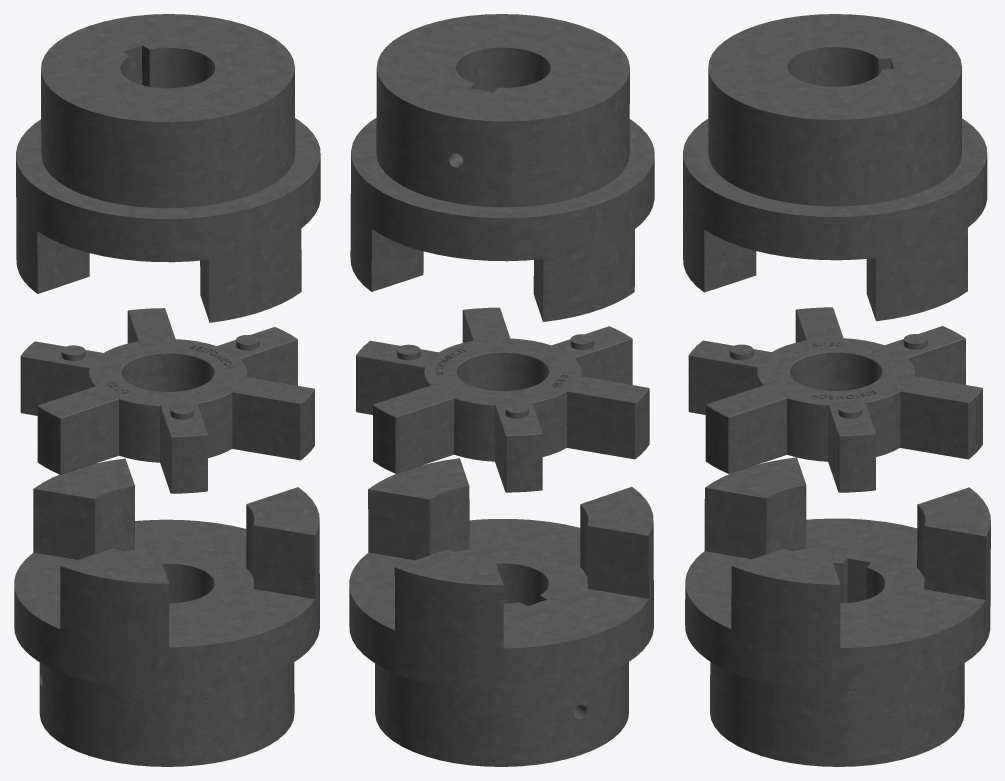
Rendered from Essex Coupling.glb.
3 views of the same model, side by side, from view 1: azimuth 30°, elevation 25°; view 2: azimuth 150°, elevation 25°; view 3: azimuth 270°, elevation 25° (orthographic).
Visible parts, largest first — view 1: L-TYPE- D30 H7-N.003, L-TYPE- D30 H7-N.002, ELASTOMER, SPIDER - JAW COUPLING BM 150-N.002; view 2: L-TYPE- D30 H7-N.003, L-TYPE- D30 H7-N.002, ELASTOMER, SPIDER - JAW COUPLING BM 150-N.002; view 3: L-TYPE- D30 H7-N.003, L-TYPE- D30 H7-N.002, ELASTOMER, SPIDER - JAW COUPLING BM 150-N.002.
Boxes of the visible parts, left/top/right/bottom form: L-TYPE- D30 H7-N.003: left=14, top=458, right=319, bottom=766; L-TYPE- D30 H7-N.002: left=16, top=14, right=320, bottom=322; ELASTOMER, SPIDER - JAW COUPLING BM 150-N.002: left=20, top=308, right=314, bottom=493; L-TYPE- D30 H7-N.003: left=349, top=458, right=653, bottom=766; L-TYPE- D30 H7-N.002: left=350, top=14, right=654, bottom=321; ELASTOMER, SPIDER - JAW COUPLING BM 150-N.002: left=356, top=307, right=649, bottom=492; L-TYPE- D30 H7-N.003: left=685, top=457, right=990, bottom=766; L-TYPE- D30 H7-N.002: left=683, top=14, right=987, bottom=321; ELASTOMER, SPIDER - JAW COUPLING BM 150-N.002: left=688, top=307, right=982, bottom=492.
Bounding box in the file's own units: 0.0625 × 0.146 × 0.063.
2 materials, 2 textured.
